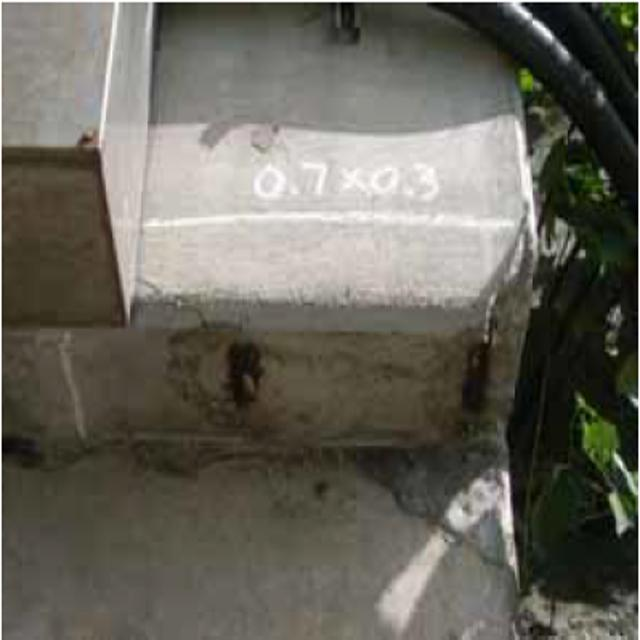spalling: (163, 327, 513, 444)
